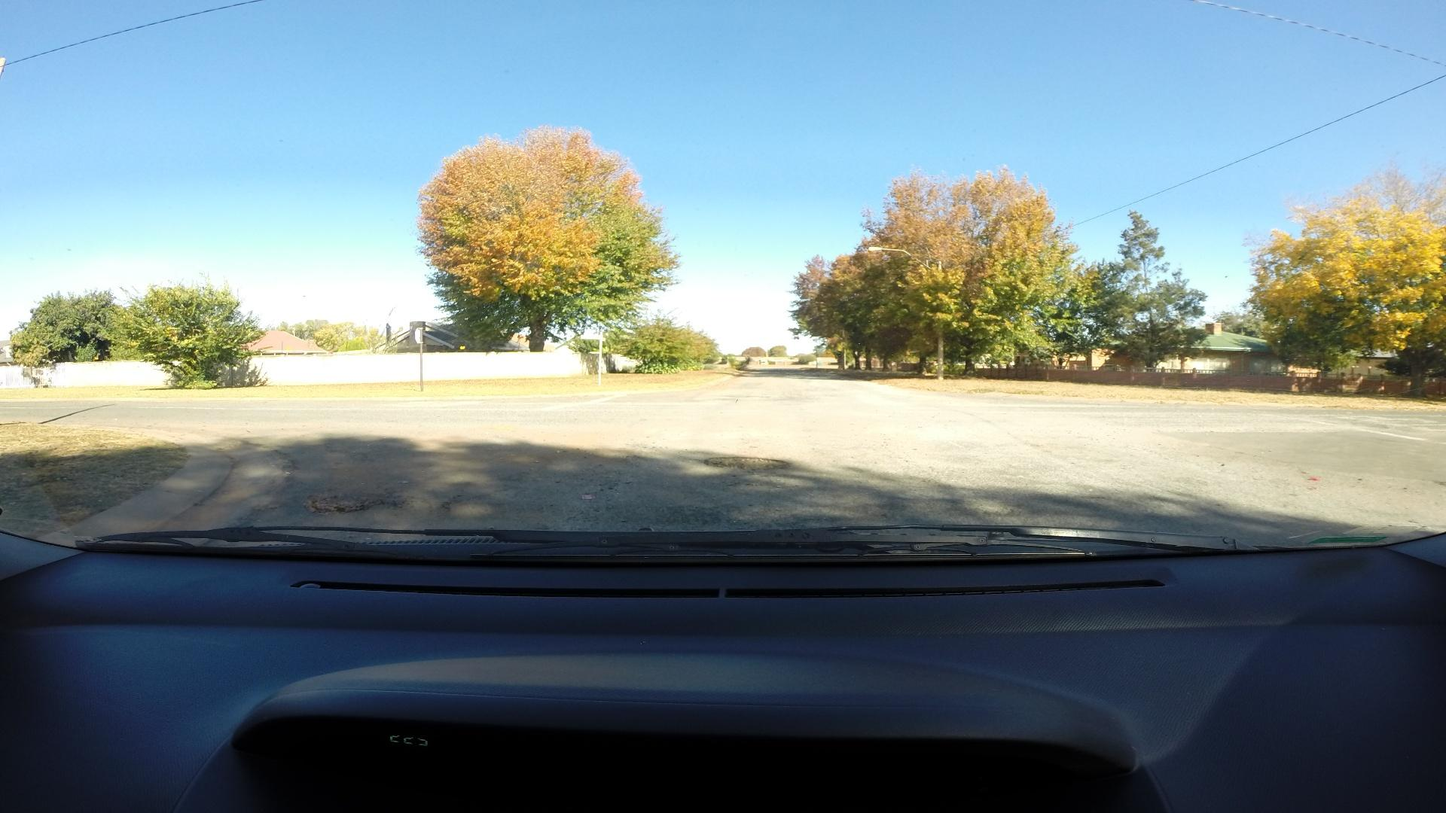pothole: (307, 495, 398, 512)
